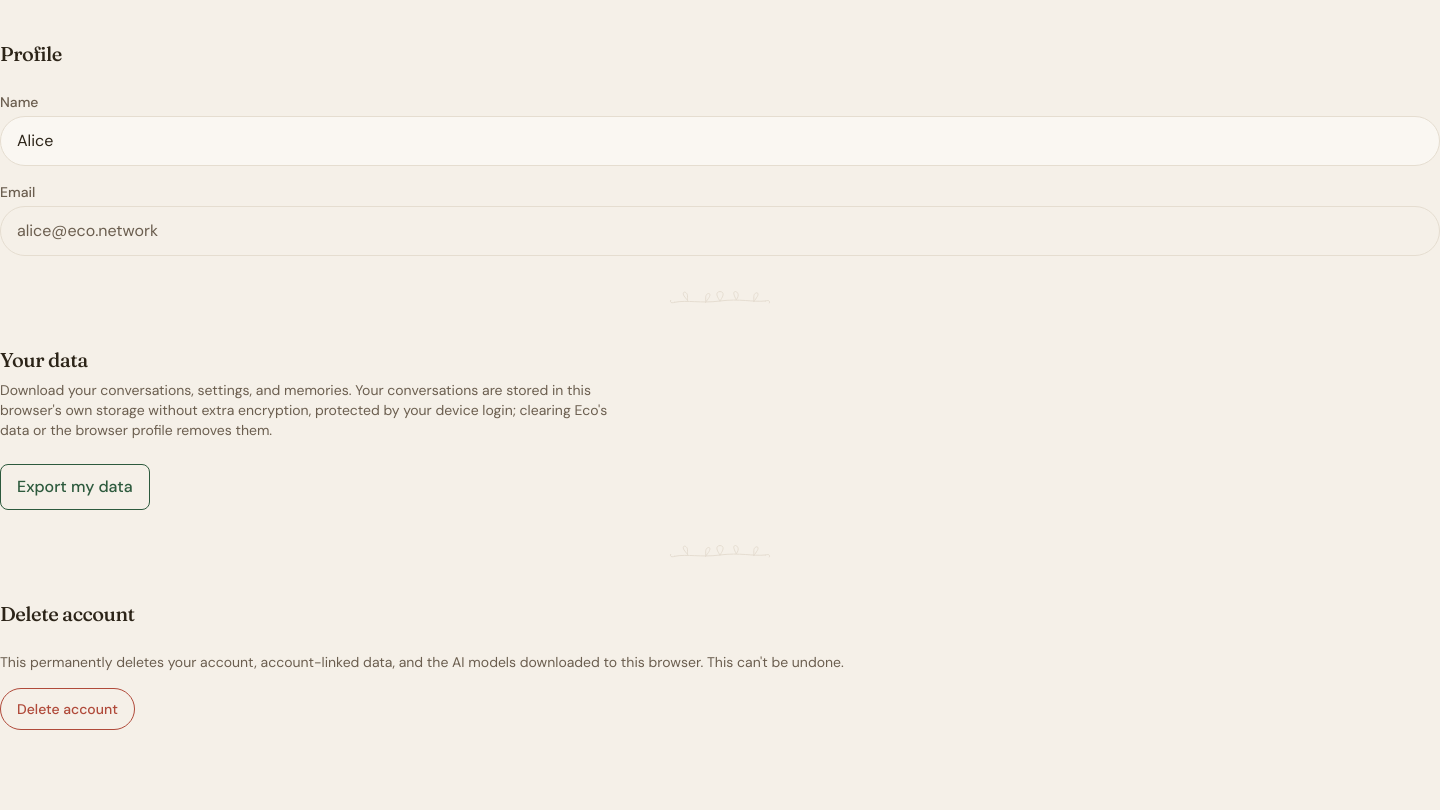
AccountTab › cancels account deletion without deleting or clearing session state
Expected: the field showing "alice@eco.network" is shown, [0,206,1439,256]
Click the button "Delete account".
click(67, 709)  # box [0,688,135,730]
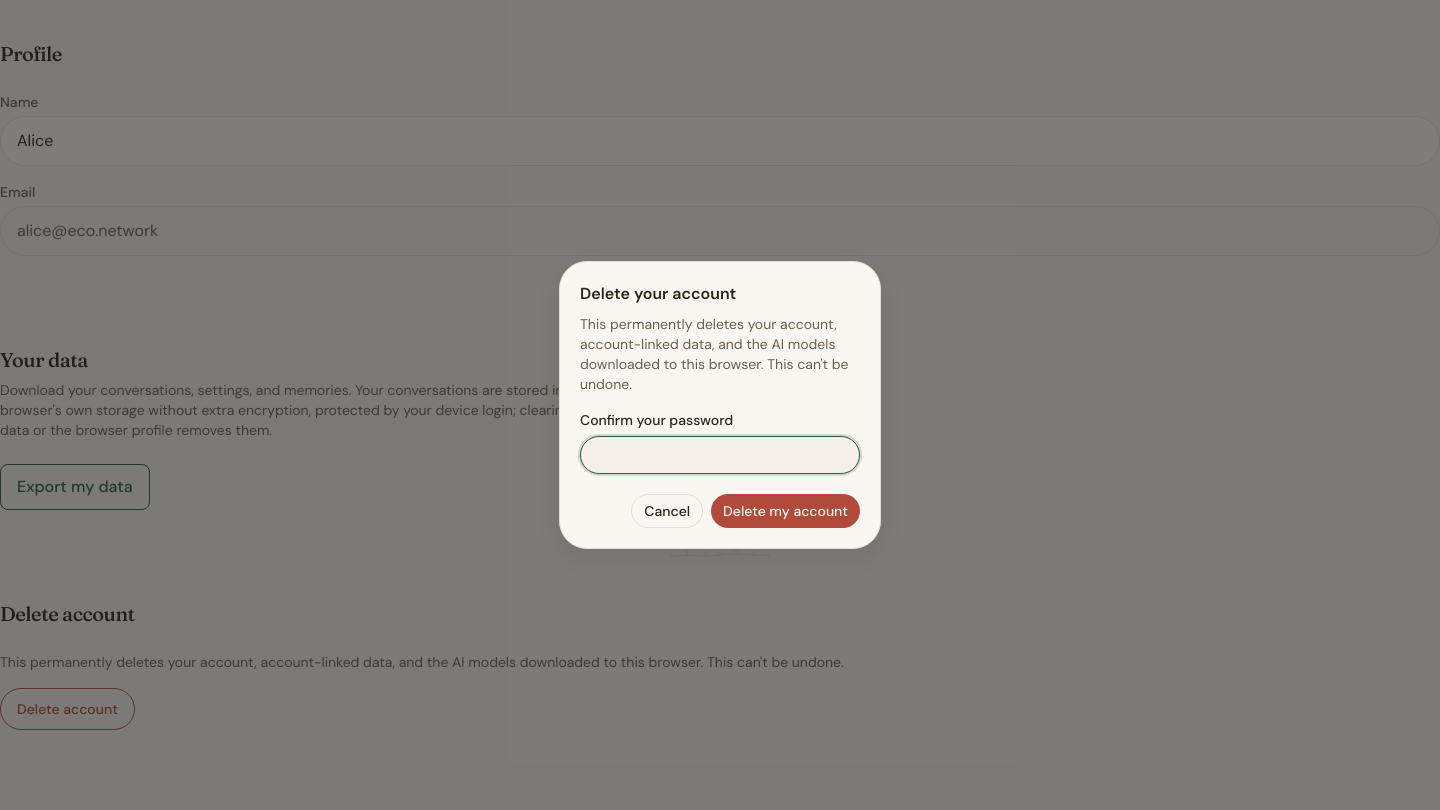
Click the button "Cancel".
click(667, 511)  # box [631,494,703,528]
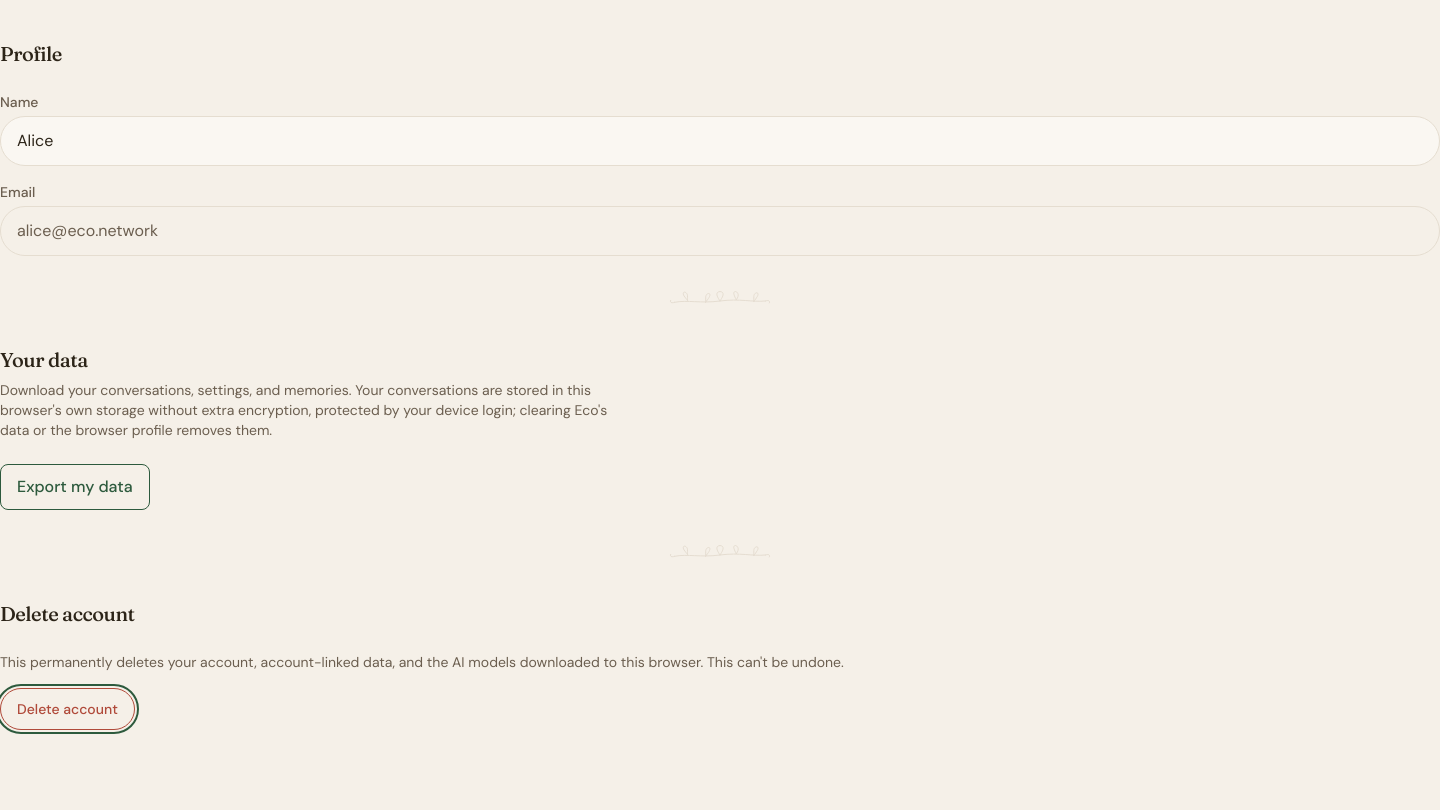
Now the dialog is gone
